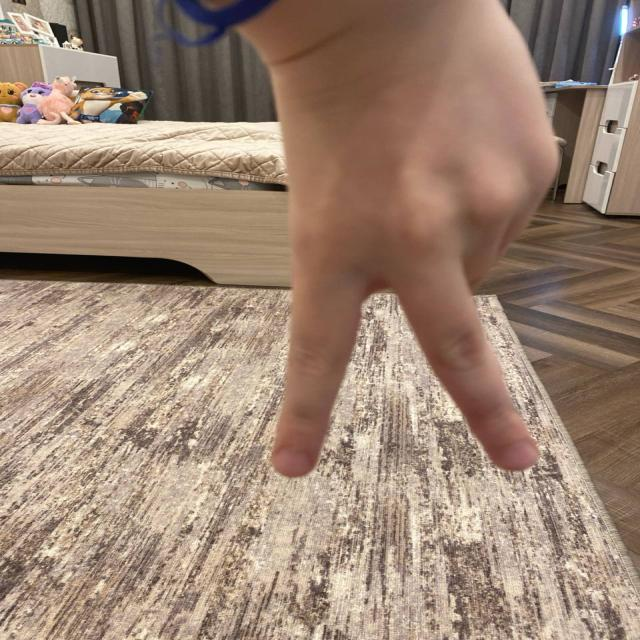l: (225, 88, 611, 490)
